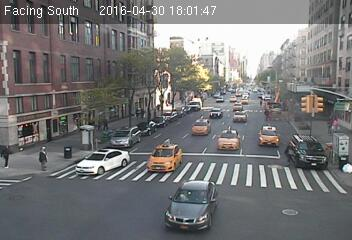neg: (195, 168, 226, 210), (105, 50, 131, 84), (57, 56, 82, 89), (260, 195, 285, 228), (61, 173, 86, 206), (29, 76, 51, 105), (74, 120, 95, 148), (294, 83, 314, 111), (208, 71, 228, 98), (128, 107, 147, 132), (159, 171, 178, 196), (250, 39, 269, 63), (314, 134, 332, 159), (210, 122, 227, 145), (260, 99, 277, 121), (246, 133, 260, 151)
pos: (1, 142, 21, 168), (38, 144, 55, 166)
